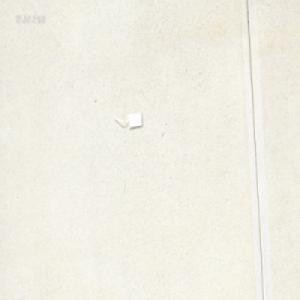LuggageTag: (112, 111, 142, 129)
